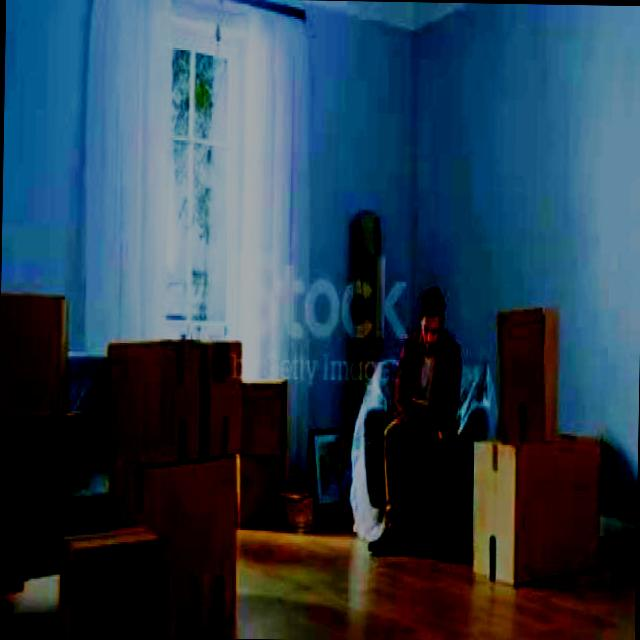Box: (472, 434, 612, 576), (98, 344, 206, 462), (162, 466, 239, 624), (62, 530, 162, 638), (492, 308, 564, 441), (0, 293, 72, 413), (0, 418, 87, 507), (200, 339, 248, 456)
